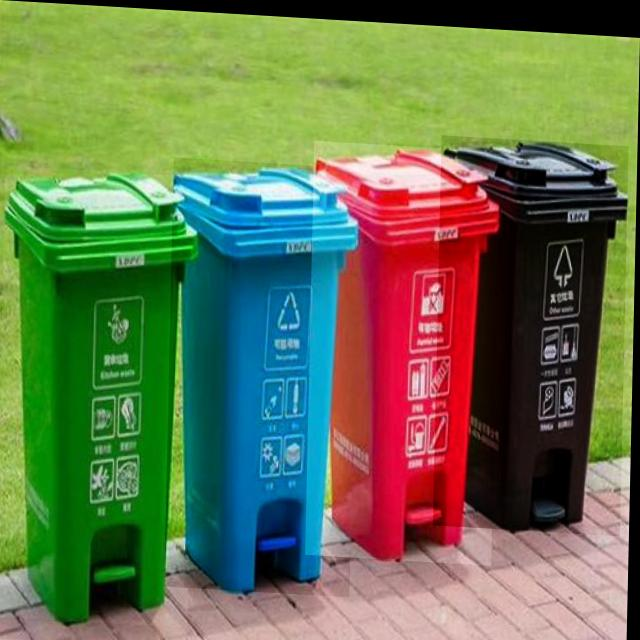garbage_bin: (0, 166, 198, 625), (167, 155, 360, 593), (308, 137, 501, 560), (435, 130, 629, 529)
